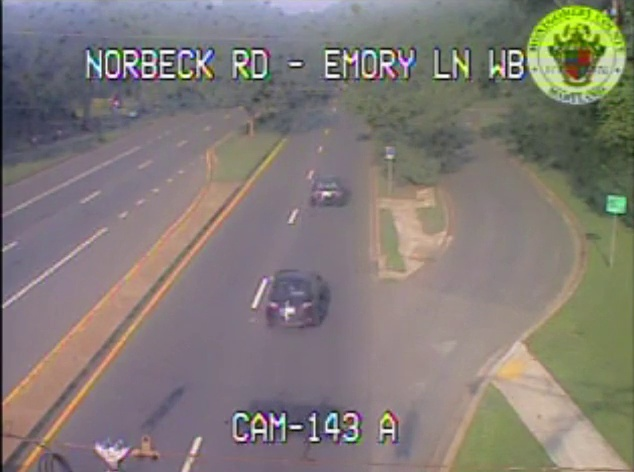car: (266, 270, 320, 327), (310, 179, 344, 204)
